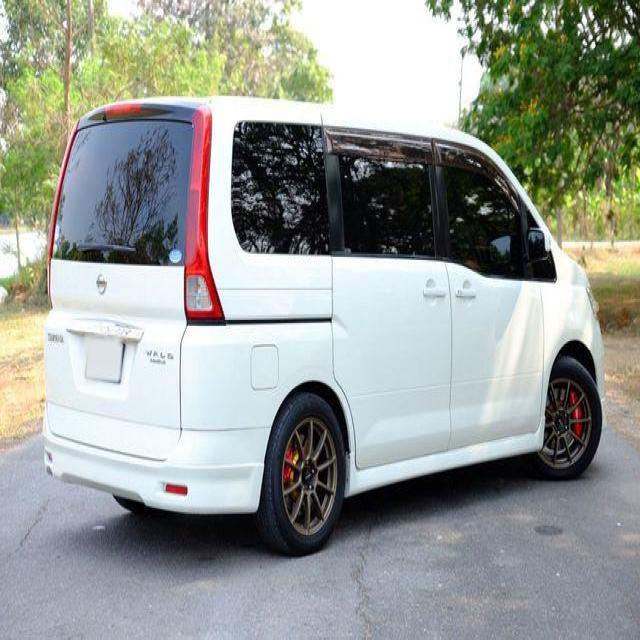back_bumper: (44, 428, 272, 513)
back_glass: (50, 121, 327, 263)
back_right_door: (325, 123, 452, 470)
back_right_light: (183, 106, 228, 324)
front_right_door: (435, 136, 544, 456)
trunk: (44, 259, 191, 460)
wheel: (253, 356, 603, 559)
